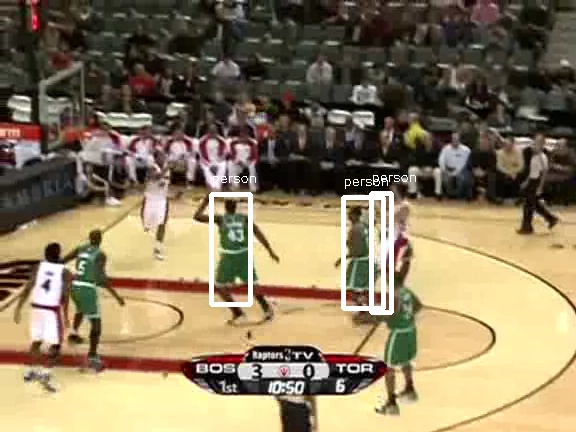person: (346, 221, 380, 302), (345, 221, 379, 302), (347, 221, 381, 302), (346, 220, 380, 301), (346, 222, 380, 303)
target_negative: (216, 157, 332, 427), (291, 259, 418, 409), (18, 371, 88, 414), (194, 102, 327, 112), (440, 151, 572, 159), (538, 38, 539, 45)
